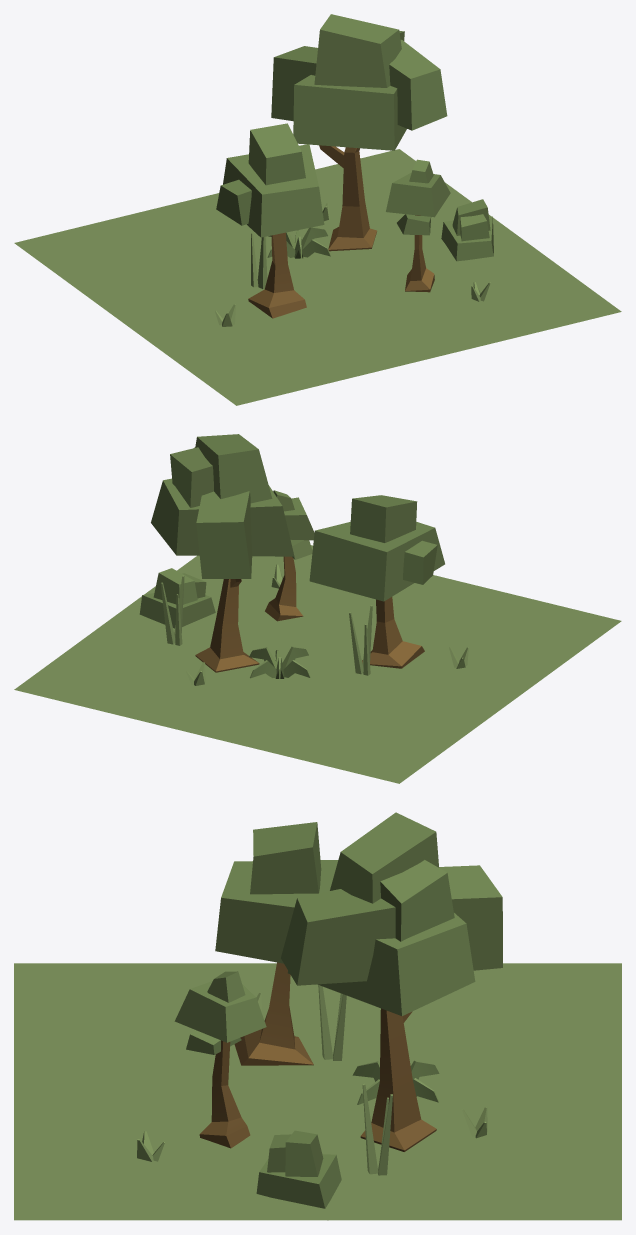
File: SA_Env_ForestTile_02.gltf
3 views of the same model, one above another, from view 1: azimuth 30°, elevation 25°; view 2: azimuth 150°, elevation 25°; view 3: azimuth 270°, elevation 25° (orthographic). The views are drawn at different scales.
Visible parts, largest first — view 1: SA_Env_ForestTile_02; view 2: SA_Env_ForestTile_02; view 3: SA_Env_ForestTile_02.
Part boxes in pixels (left/top/right/bottom): SA_Env_ForestTile_02: left=14, top=14, right=621, bottom=405; SA_Env_ForestTile_02: left=14, top=434, right=621, bottom=783; SA_Env_ForestTile_02: left=14, top=812, right=621, bottom=1220.
Bounding box in the file's own units: 15 × 8.48 × 15.
Materials: 1 (1 with a texture image).
